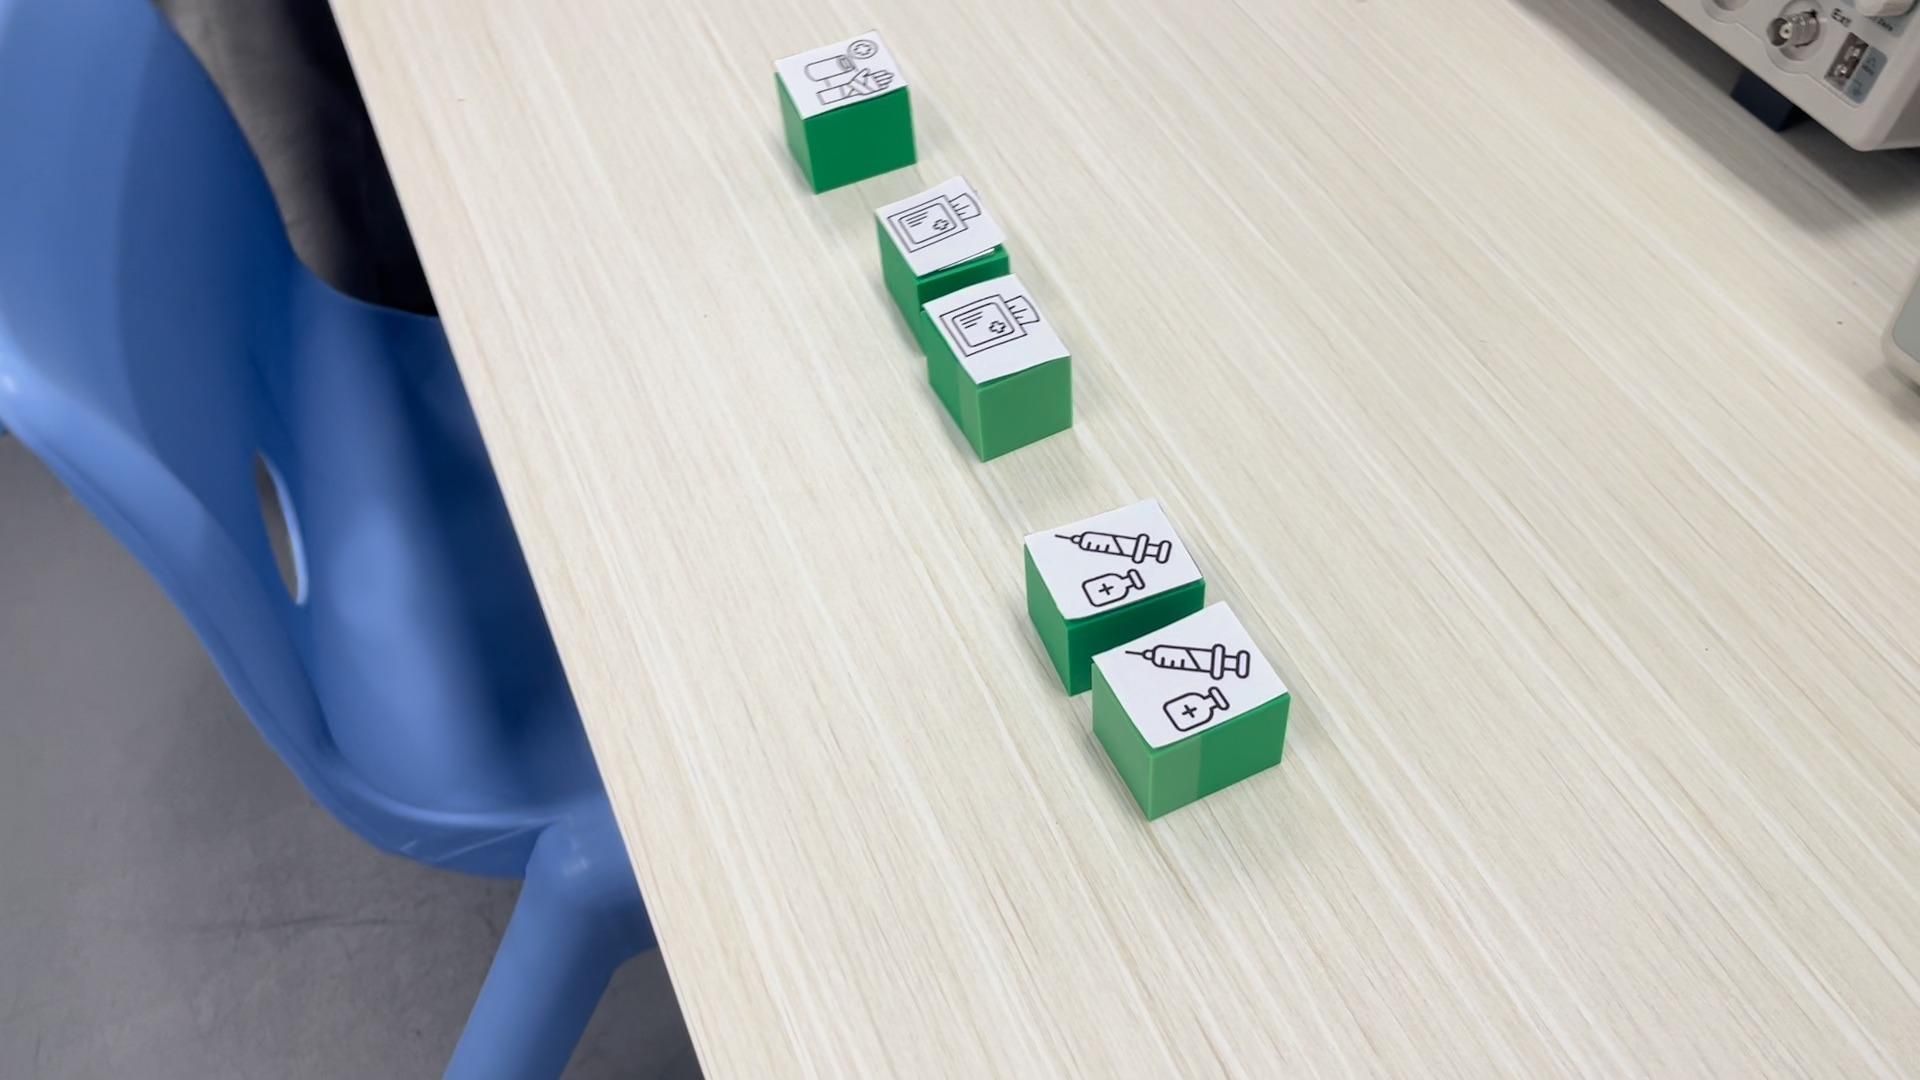Bandages: (769, 28, 917, 194)
Gauze: (918, 273, 1073, 466), (870, 170, 1012, 280)
antiseptic cream: (1091, 602, 1293, 820), (1025, 495, 1205, 621)
